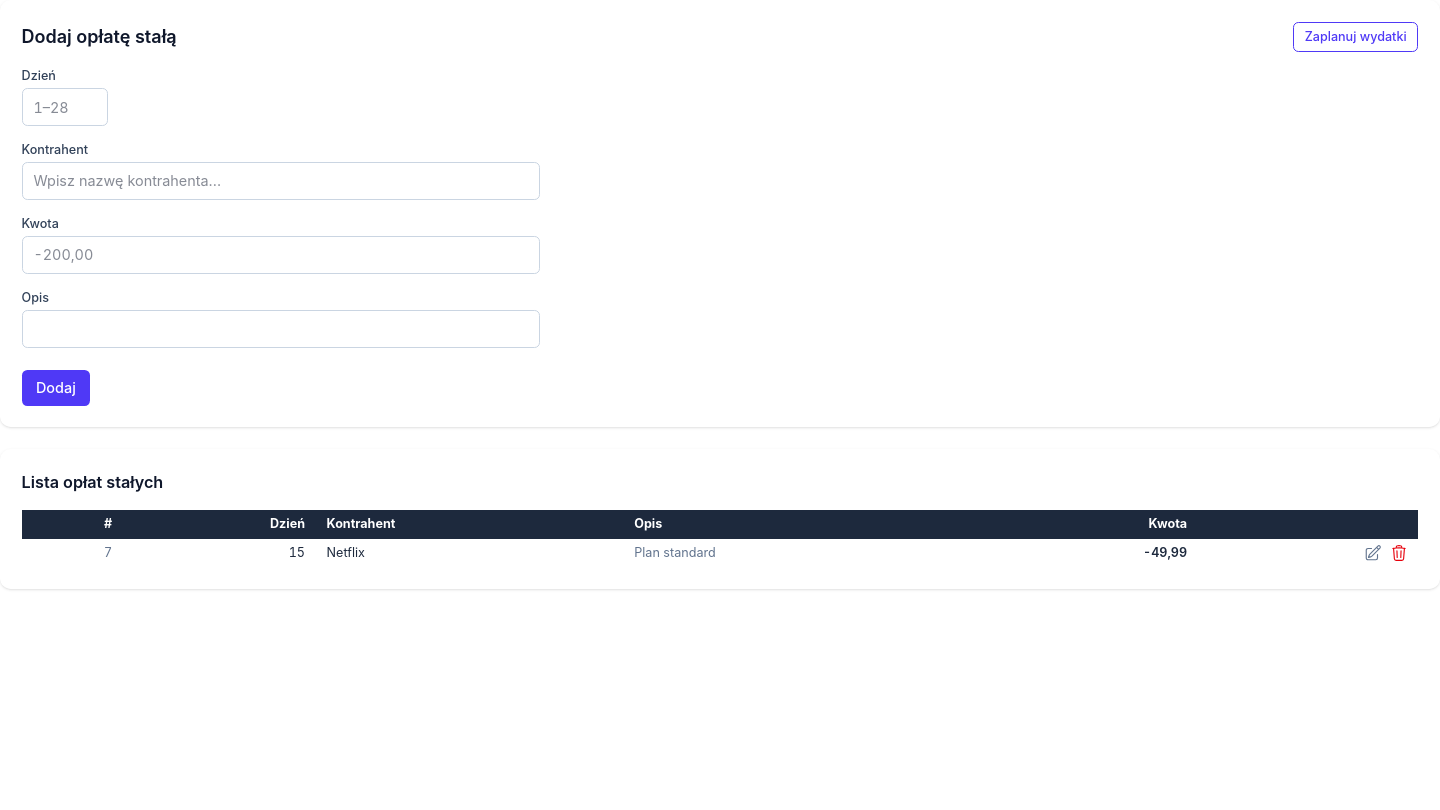
Test: FixedExpensesPage › plans the next month once confirmed, and opens the history of the main account
This screenshot has width=1440, height=810.
Click the button "Zaplanuj wydatki": point(1356, 37) [1293,22,1418,52]
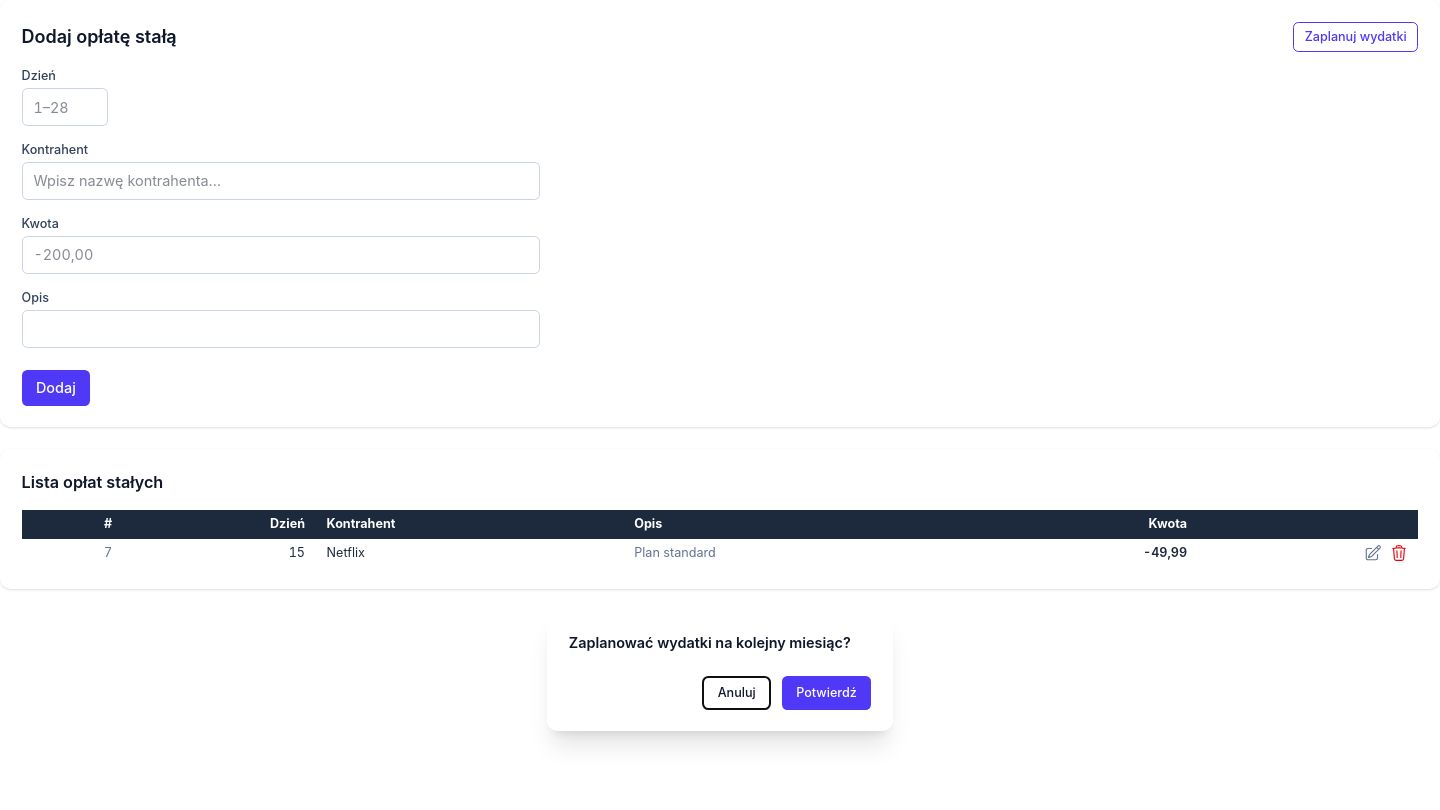
Click the button "Potwierdź": point(826, 693) [782,676,871,710]
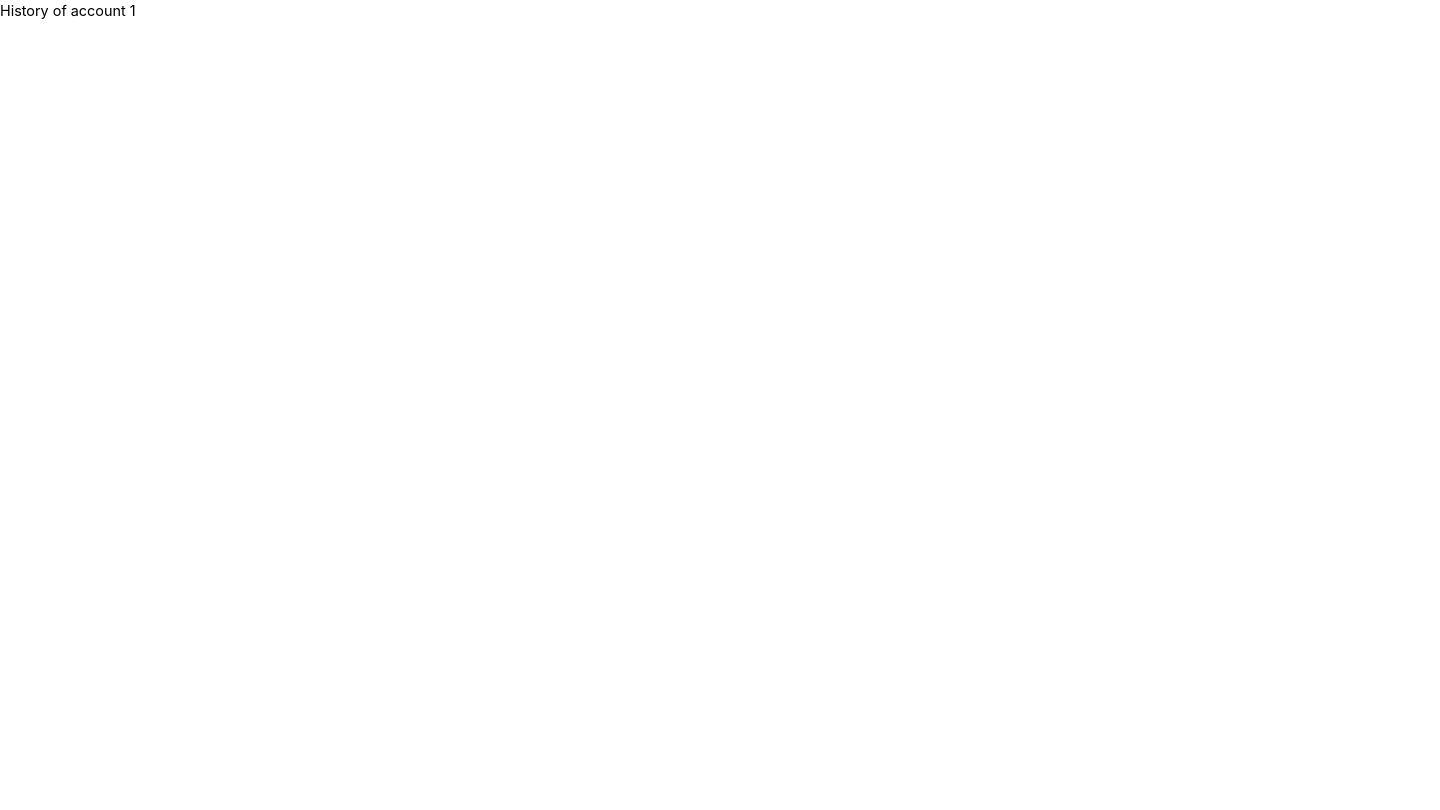
Expected: the text "History of account 1" is shown, [0,2,136,19]
